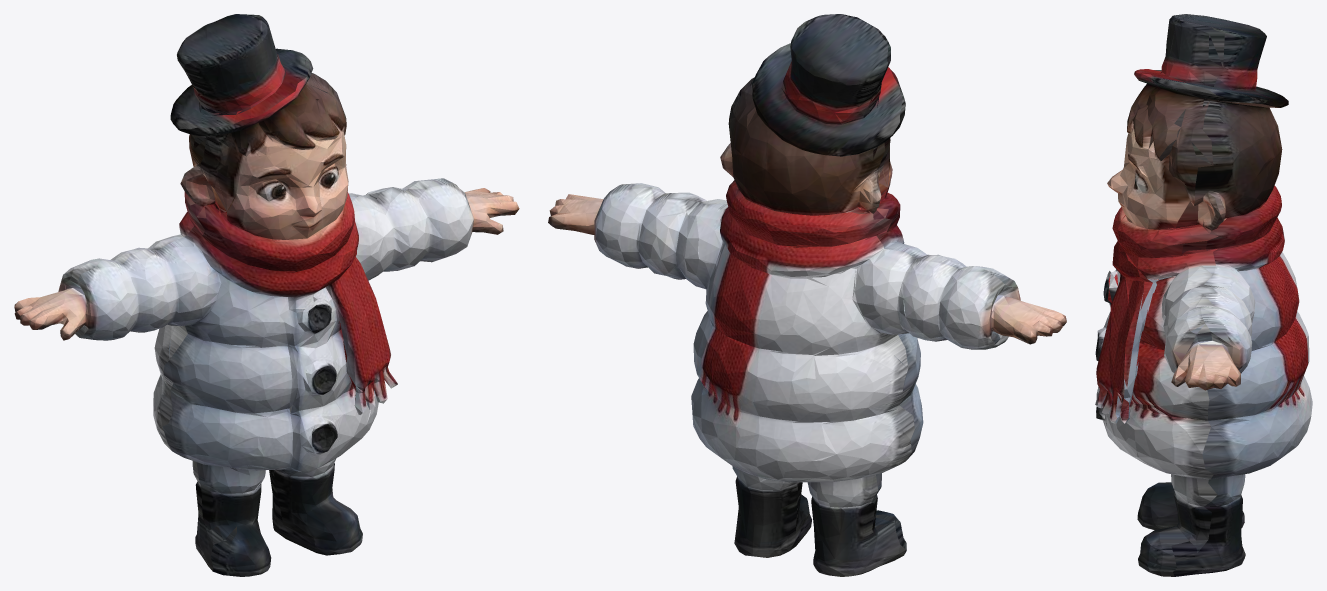
The model's file is v_snowkid.glb.
3 views of the same model, side by side, from view 1: azimuth 30°, elevation 25°; view 2: azimuth 150°, elevation 25°; view 3: azimuth 270°, elevation 25° (orthographic). The views are drawn at different scales.
Parts seen in each view (by area): view 1: geometry_0; view 2: geometry_0; view 3: geometry_0.
Part boxes in pixels (<box>): geometry_0: <box>14,14,519,576</box>; geometry_0: <box>548,14,1066,576</box>; geometry_0: <box>1095,14,1312,576</box>.
Bounding box in the file's own units: 0.9895 × 1 × 0.384.
1 material, 1 textured.
